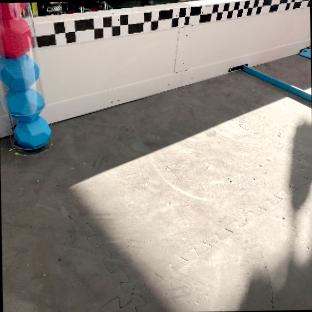V5_RED: (0, 2, 31, 57)
